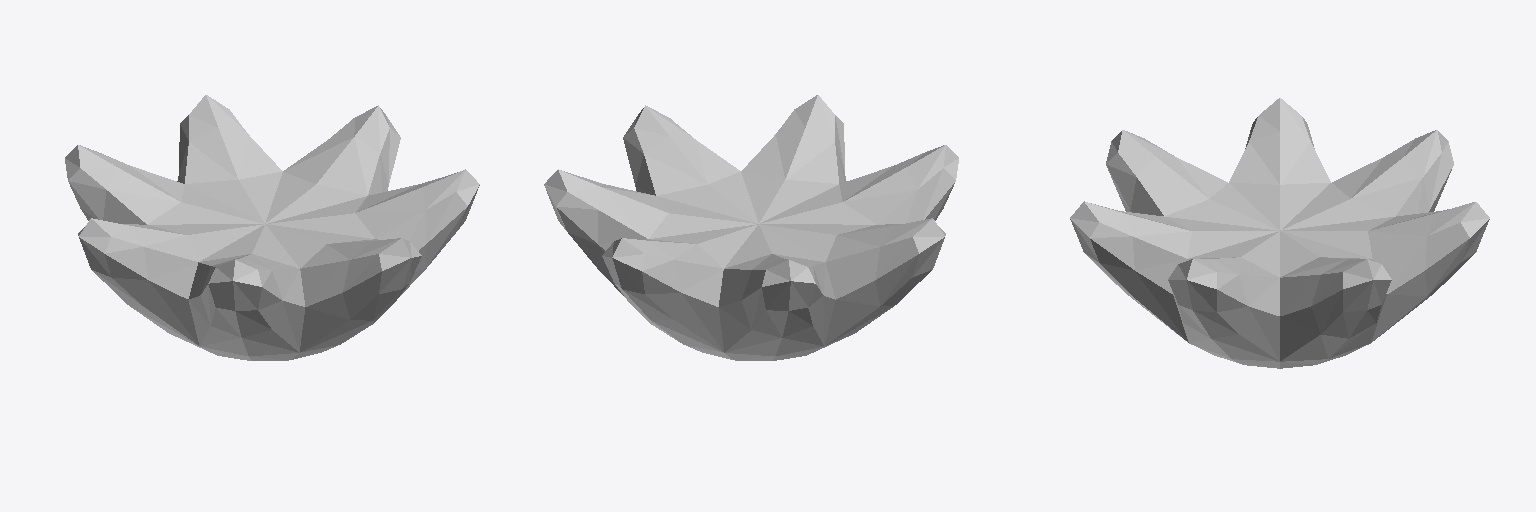
Rendered from bomber.obj.
3 views of the same model, side by side, from view 1: azimuth 30°, elevation 25°; view 2: azimuth 150°, elevation 25°; view 3: azimuth 270°, elevation 25° (orthographic).
Parts seen in each view (by area): view 1: cylinder1; view 2: cylinder1; view 3: cylinder1.
Part boxes in pixels (left/top/right/bottom): cylinder1: left=65, top=95, right=479, bottom=360; cylinder1: left=544, top=95, right=958, bottom=360; cylinder1: left=1070, top=98, right=1489, bottom=368.
Bounding box in the file's own units: 0.1094 × 0.046 × 0.1122.